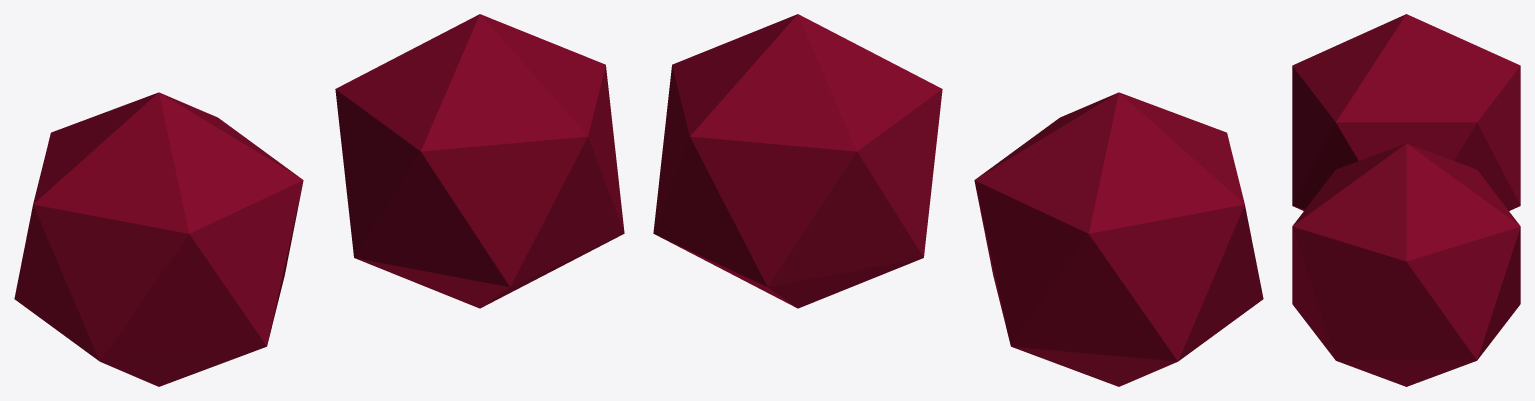
File: flower-2.fbx
The picture shows the model from 3 angles, left to right: view 1: azimuth 30°, elevation 25°; view 2: azimuth 150°, elevation 25°; view 3: azimuth 270°, elevation 25°; orthographic projection. The views are drawn at different scales.
Visible parts, largest first — view 1: 아이코스피어; view 2: 아이코스피어; view 3: 아이코스피어.
Part boxes in pixels (x1,y1,x2,y2): 아이코스피어: (14,14,624,386); 아이코스피어: (653,14,1263,386); 아이코스피어: (1292,14,1520,386).
Size of the model in its own units: 536 by 264 by 224.
